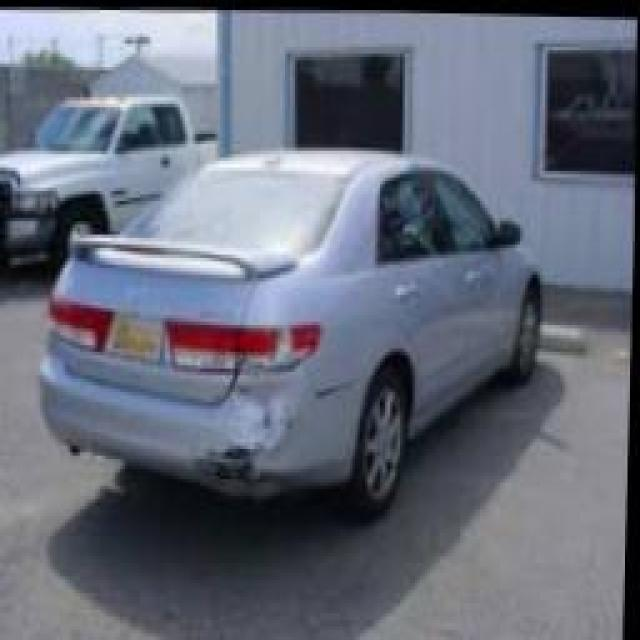Bumper: (40, 347, 370, 498)
